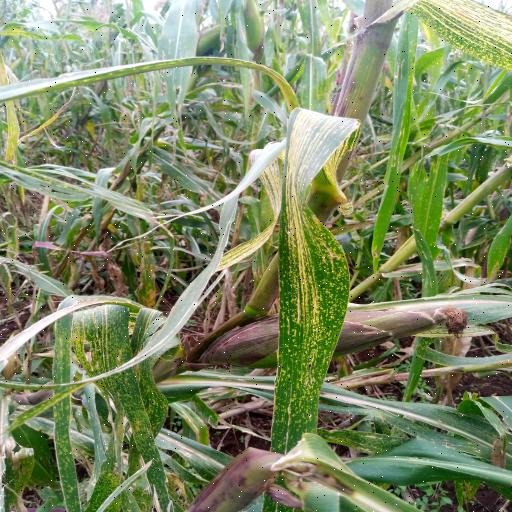Corn_Streak: (266, 92, 373, 442), (377, 0, 512, 76)
